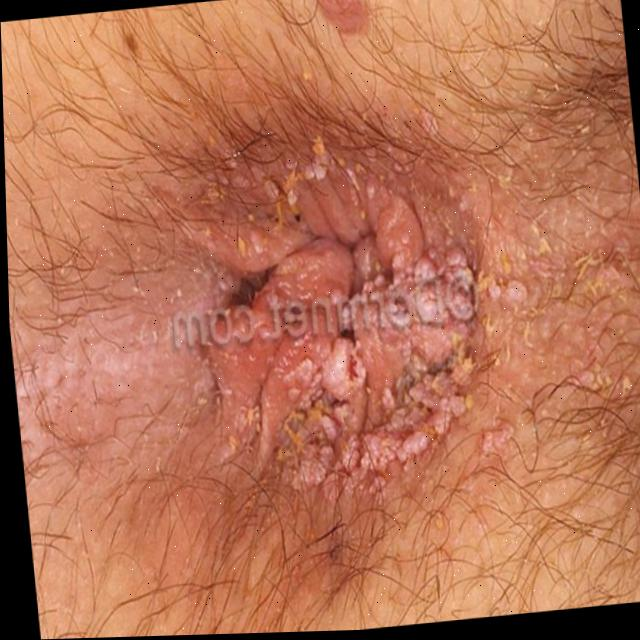Shingles: (220, 148, 494, 491)
